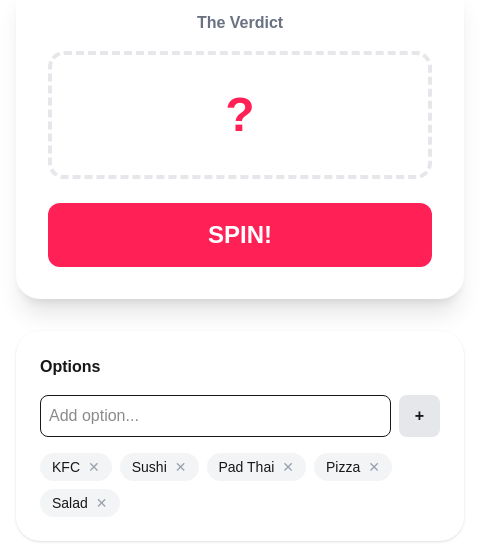
Test case: Decision Wheel Micro-App › Spinner Component › should allow deleting an option using delete button
The image size is (481, 559).
What coordinates should you click on to do the following:
click the button "✕" next to "KFC"
I would click on:
 (94, 467)
Its box is [88, 457, 100, 477].
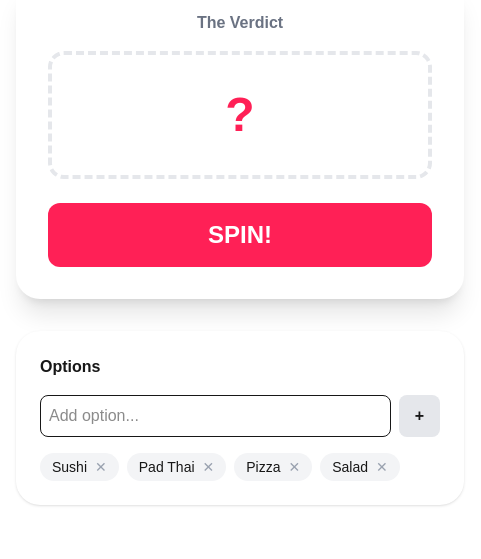
Now the text "KFC" is gone
